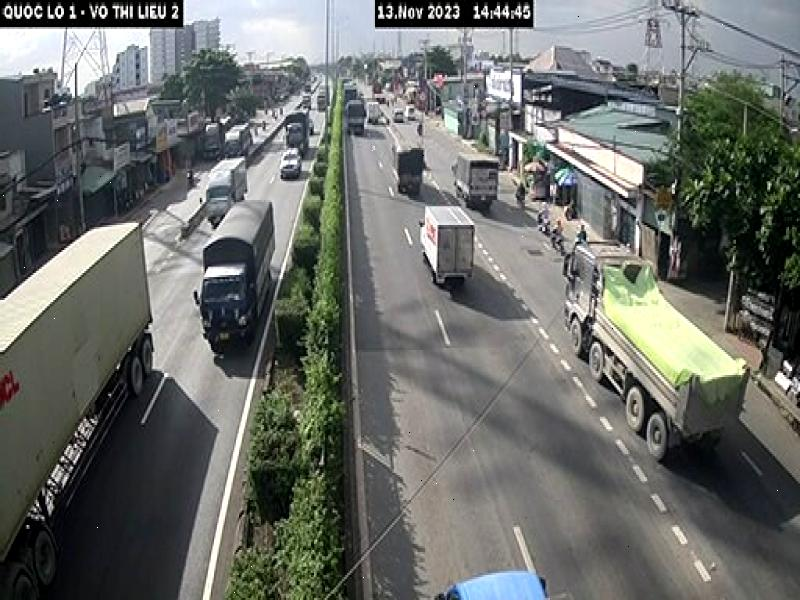truck: (560, 236, 752, 463), (199, 193, 275, 359)
